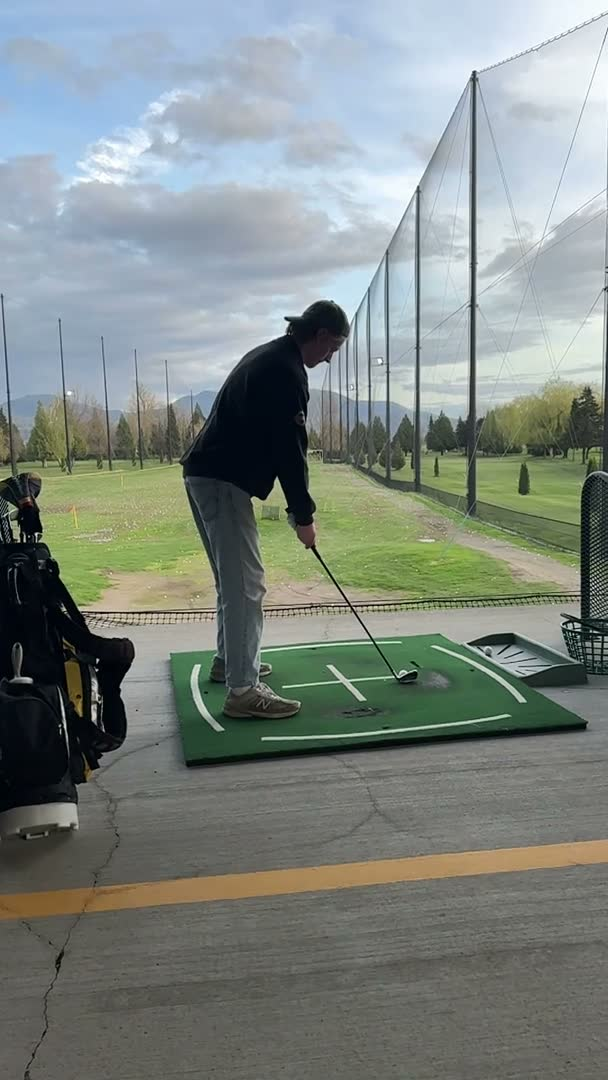Golf Ball: (395, 665, 409, 681)
